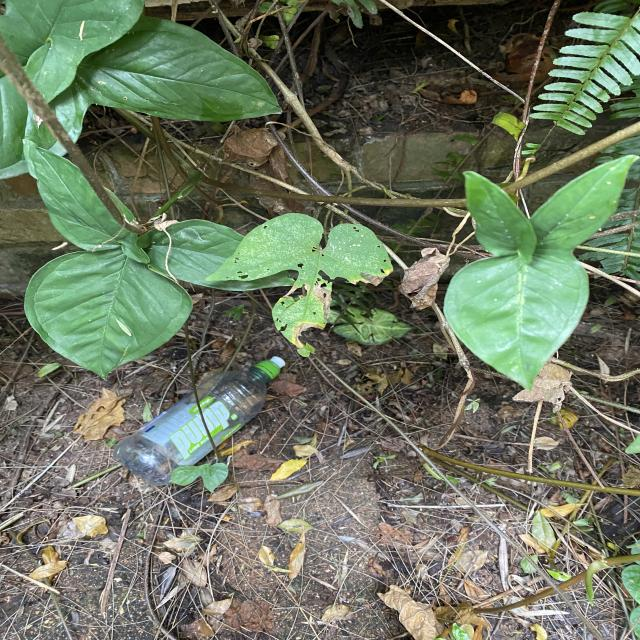bottle: (113, 357, 286, 486)
